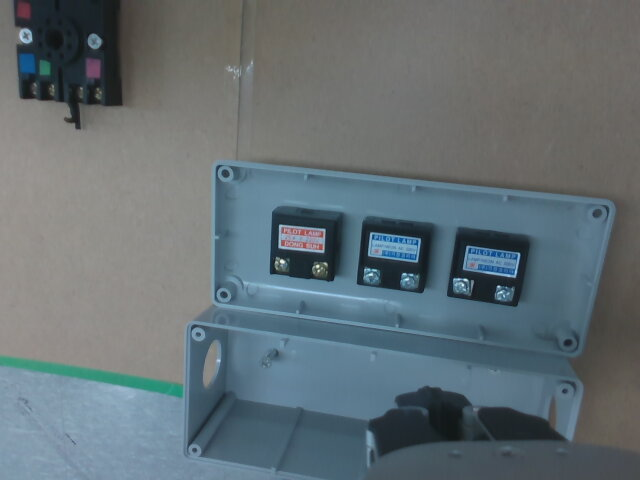L1(1): (274, 257, 289, 273)
L1(2): (311, 262, 327, 277)
L2(1): (364, 267, 379, 283)
L2(2): (400, 273, 418, 289)
L3(1): (452, 278, 471, 295)
L3(2): (495, 285, 512, 301)
